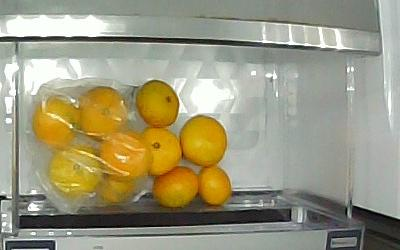tangerine: (179, 115, 227, 168), (138, 127, 183, 177), (136, 80, 180, 127), (152, 165, 200, 208), (198, 165, 232, 207)
tangerine_vinyl: (49, 144, 102, 197), (80, 86, 129, 141), (32, 95, 81, 150), (100, 131, 153, 181), (95, 171, 144, 203)
